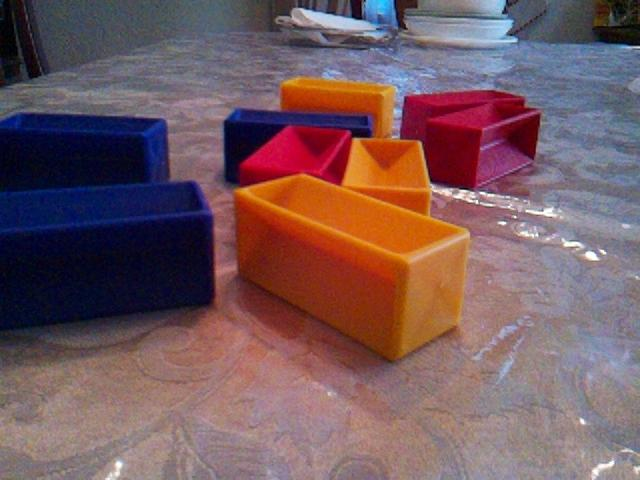blue: (1, 178, 217, 331), (1, 110, 171, 190), (225, 108, 374, 186)
red: (424, 99, 542, 190), (238, 123, 354, 188), (400, 88, 526, 147)
yellow: (232, 172, 471, 362), (279, 75, 397, 138), (341, 136, 433, 216)
